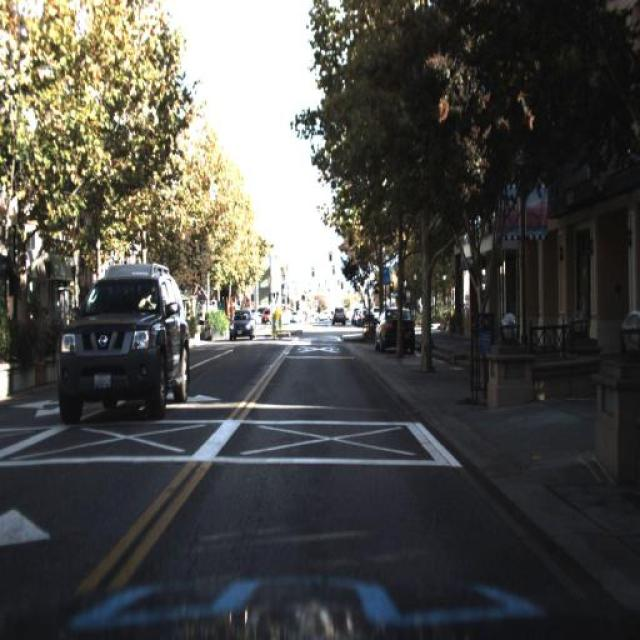car: (48, 258, 193, 427), (50, 258, 194, 421), (372, 306, 413, 358), (222, 306, 258, 346), (330, 295, 350, 327)
